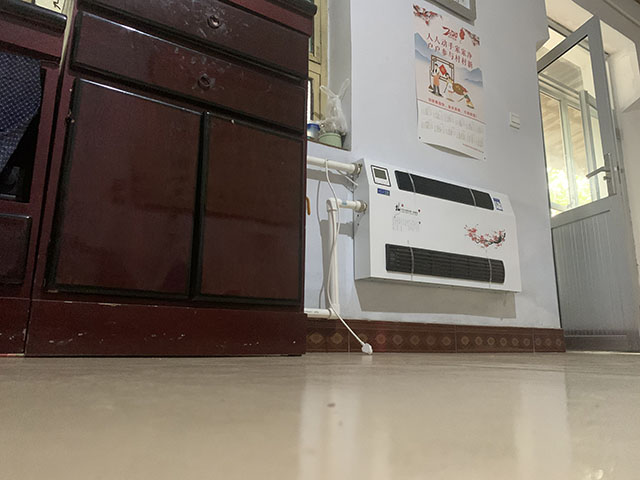cabinet: (1, 1, 320, 359)
wire: (324, 157, 375, 357)
